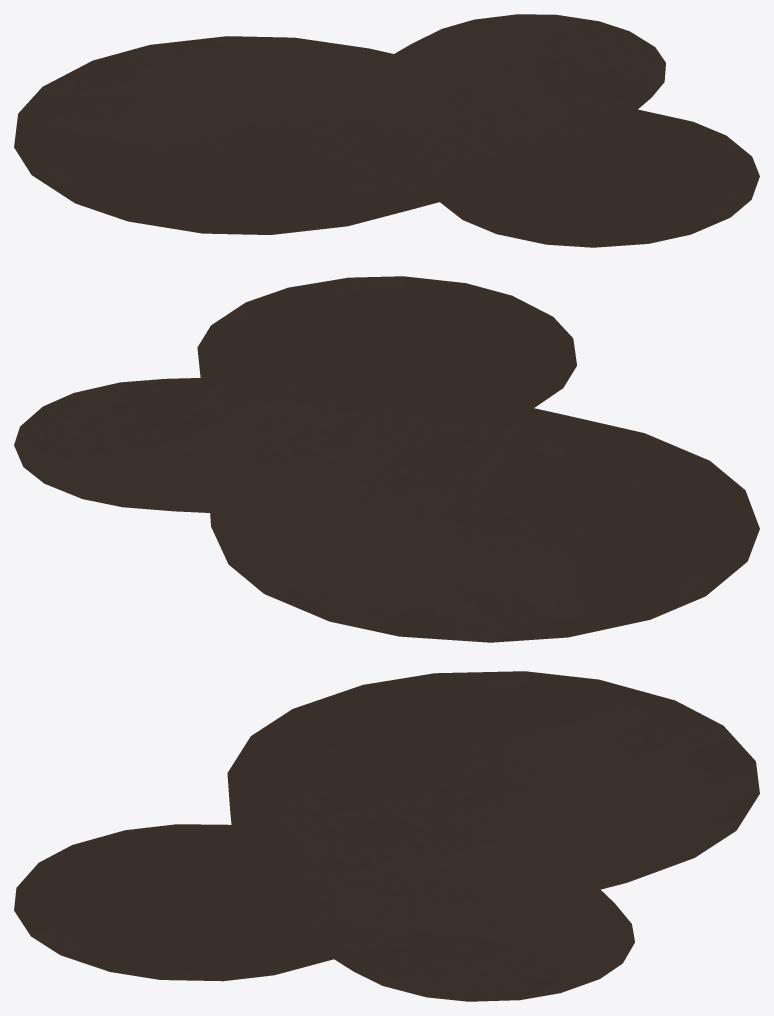
Rendered from sn_jixie_chiluntaohuandi_001.FBX.
The picture shows the model from 3 angles, top to bottom: view 1: azimuth 30°, elevation 25°; view 2: azimuth 150°, elevation 25°; view 3: azimuth 270°, elevation 25°; orthographic projection. The views are drawn at different scales.
Visible parts, largest first — view 1: sn_jixie_chiluntaohuandi_001; view 2: sn_jixie_chiluntaohuandi_001; view 3: sn_jixie_chiluntaohuandi_001.
Part boxes in pixels (bbox=[...]): sn_jixie_chiluntaohuandi_001: bbox=[14, 14, 759, 247]; sn_jixie_chiluntaohuandi_001: bbox=[14, 276, 759, 642]; sn_jixie_chiluntaohuandi_001: bbox=[14, 671, 759, 1001].
Size of the model in its own units: 31.63 by 30.17 by 0.0021.
